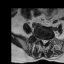CCS_normal: (43, 36, 45, 47)
LFS_severe_stenosis: (48, 36, 50, 43)
LLS_normal: (45, 37, 48, 44)
RFS_severe_stenosis: (39, 35, 41, 42)
RLS_normal: (41, 36, 43, 44)
